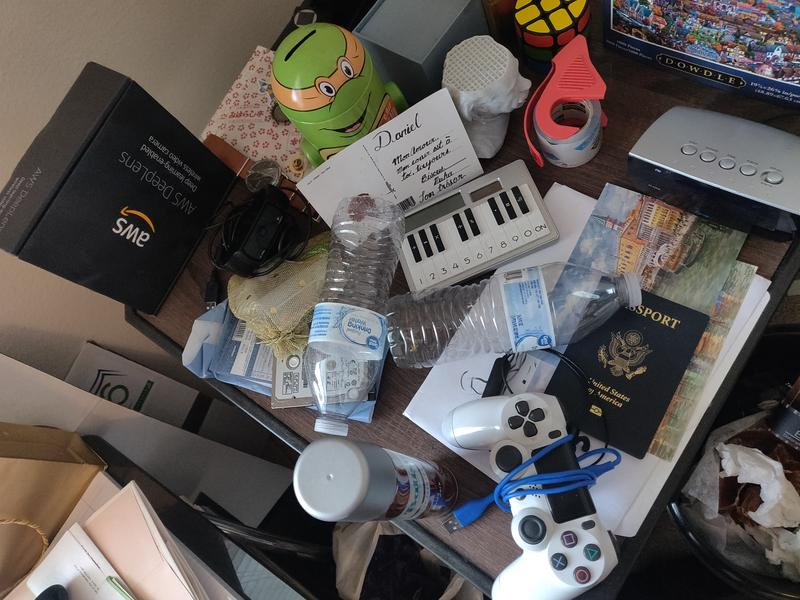bottle: (386, 261, 643, 368), (303, 195, 405, 437)
